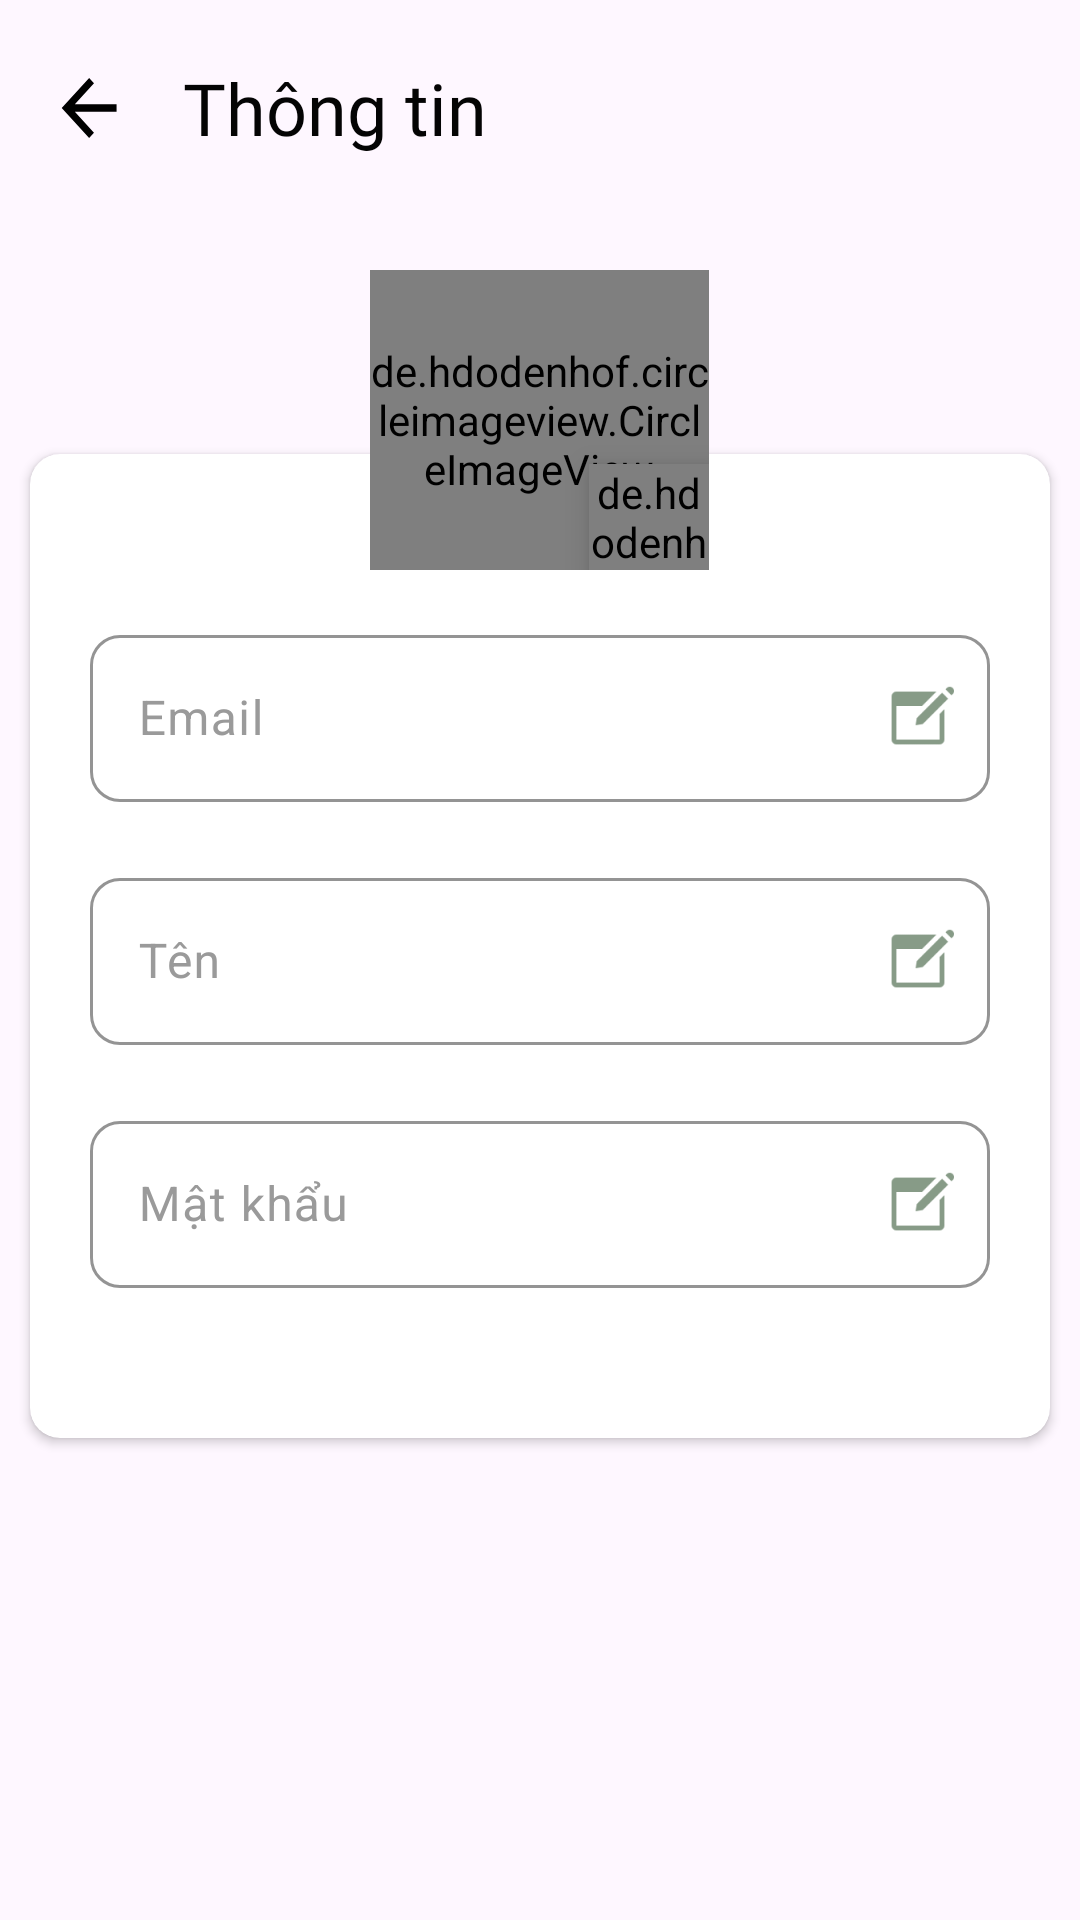

Icon bounding boxes for this 1080 × 1920 phone screenshot, format (x1, y1, x2, y2):
arrow back: (62, 78, 117, 138)
